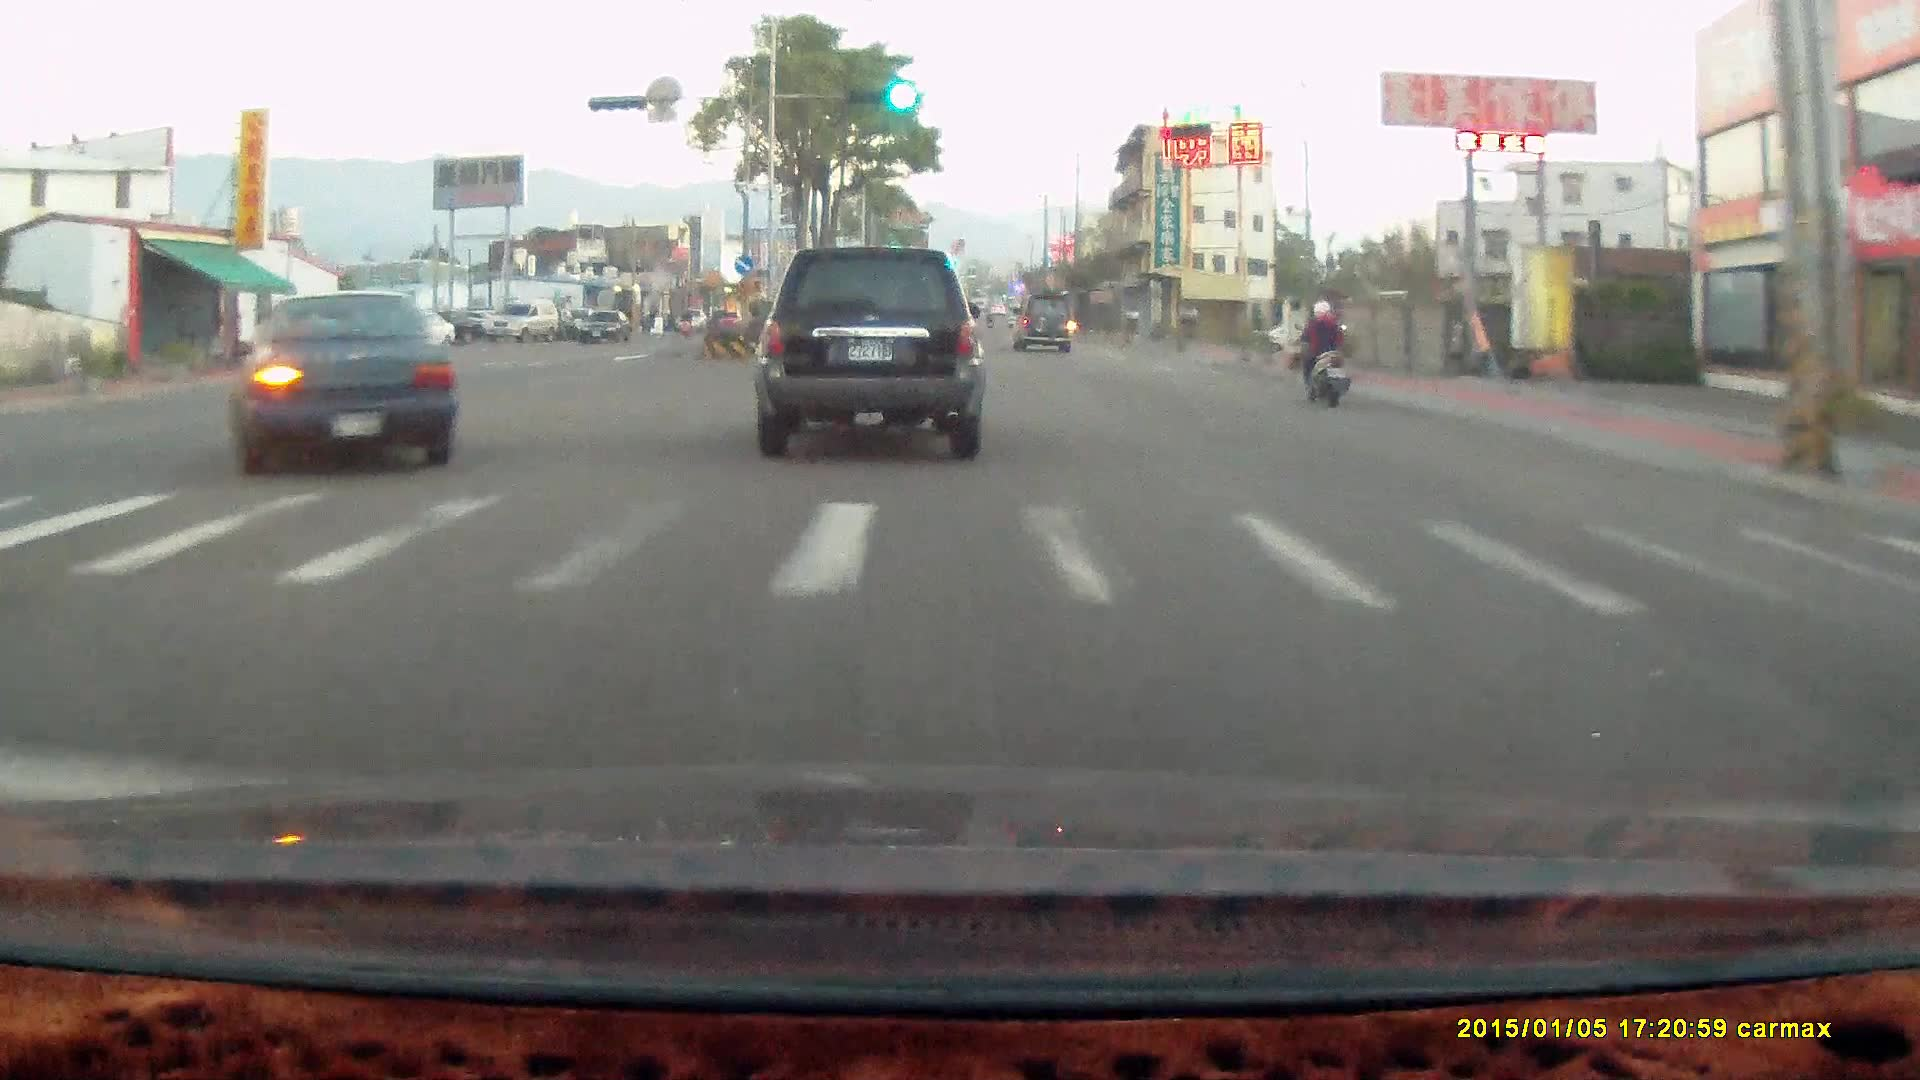rider: (1286, 290, 1362, 415), (1296, 295, 1352, 407)
vehicle: (761, 247, 990, 460), (752, 245, 981, 457), (221, 286, 457, 480), (229, 290, 458, 475), (1016, 293, 1077, 361), (1010, 293, 1074, 353), (479, 301, 559, 347), (371, 311, 457, 354), (482, 298, 558, 343), (577, 308, 631, 344)
